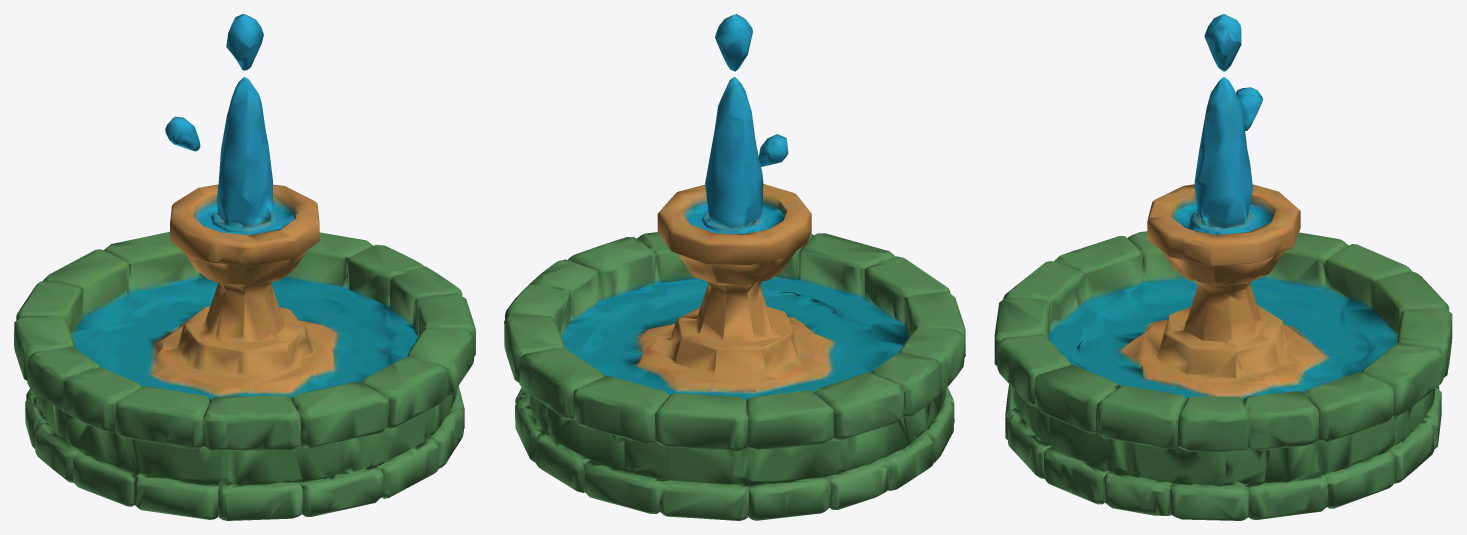
File: fontanna.glb
3 views of the same model, side by side, from view 1: azimuth 30°, elevation 25°; view 2: azimuth 150°, elevation 25°; view 3: azimuth 270°, elevation 25° (orthographic).
Visible parts, largest first — view 1: tripo_node_63ba1c3b-27db-4755-83e6-e29b98019769; view 2: tripo_node_63ba1c3b-27db-4755-83e6-e29b98019769; view 3: tripo_node_63ba1c3b-27db-4755-83e6-e29b98019769.
Boxes of the visible parts, left/top/right/bottom form: tripo_node_63ba1c3b-27db-4755-83e6-e29b98019769: left=14, top=14, right=475, bottom=520; tripo_node_63ba1c3b-27db-4755-83e6-e29b98019769: left=504, top=14, right=965, bottom=520; tripo_node_63ba1c3b-27db-4755-83e6-e29b98019769: left=994, top=14, right=1452, bottom=520.
Bounding box in the file's own units: 0.9714 × 0.9798 × 0.9731.
1 material, 1 textured.
